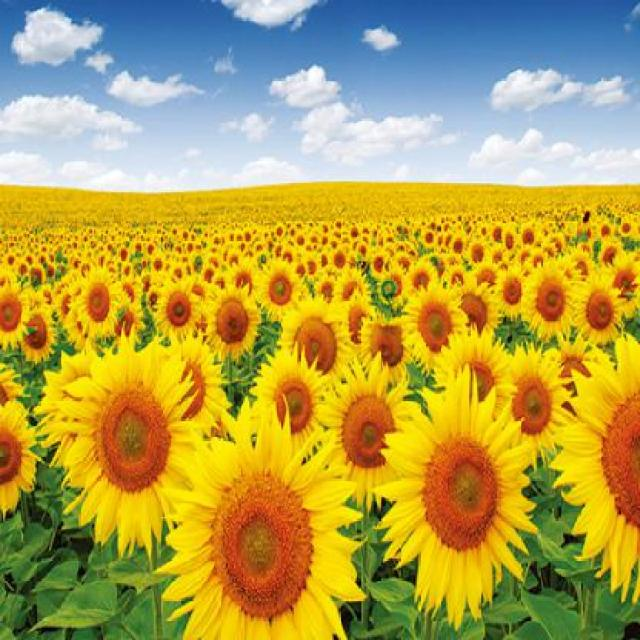sunflower: (173, 411, 384, 638), (373, 361, 544, 622), (45, 326, 212, 569), (275, 290, 353, 390), (188, 281, 272, 367)
